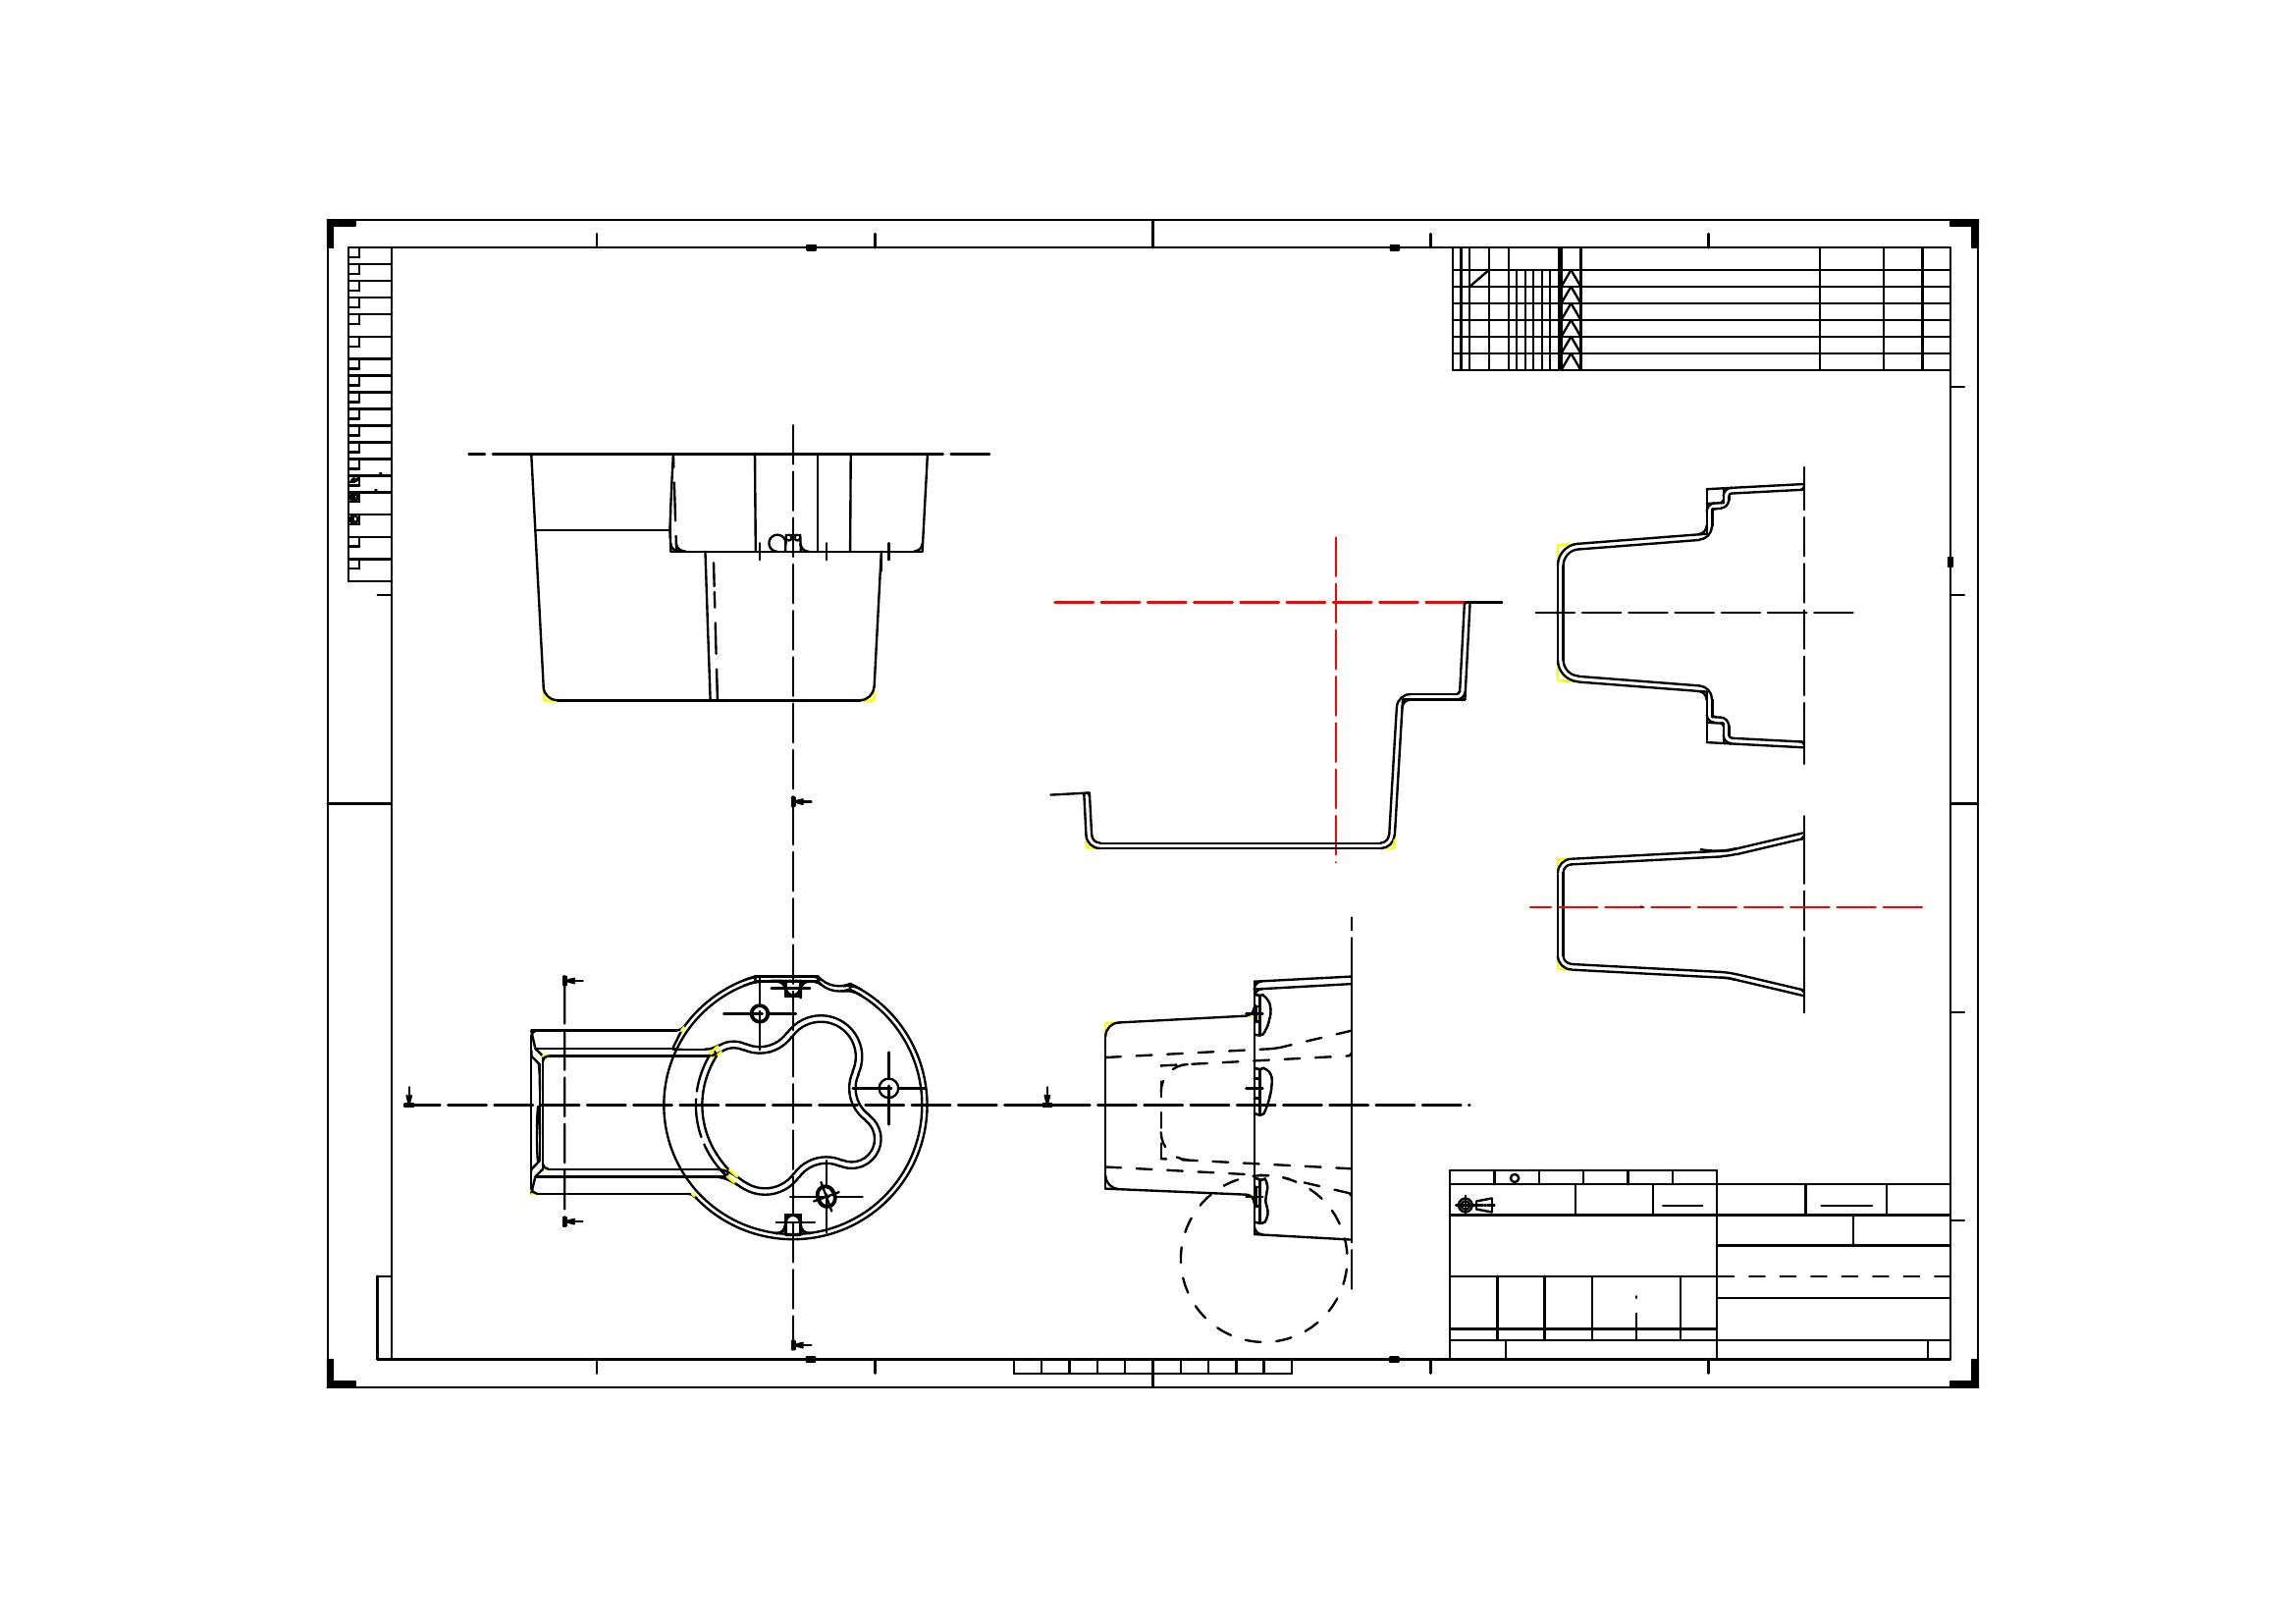object: (531, 975, 926, 1239), (531, 452, 929, 701), (1082, 601, 1472, 849), (1556, 483, 1804, 749), (1103, 975, 1351, 1237), (1558, 831, 1804, 1000)
title_block: (1449, 1171, 1950, 1359), (1453, 246, 1950, 371), (346, 246, 390, 580)
